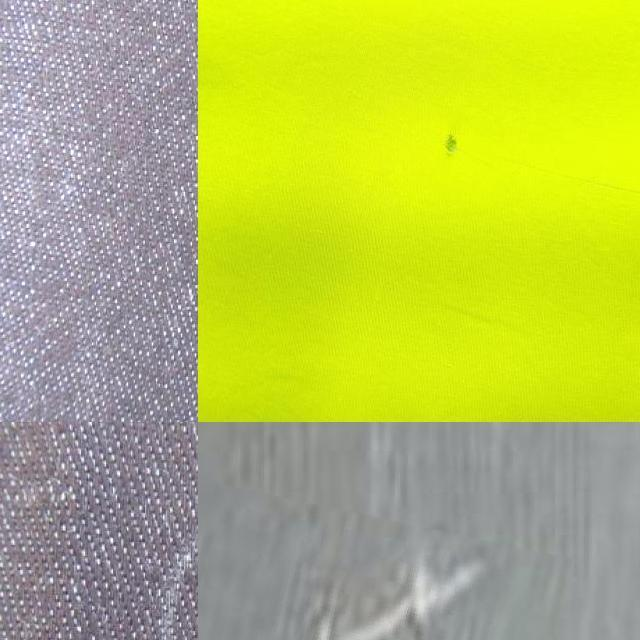Thread_other: (198, 500, 555, 640)
seam: (375, 104, 503, 202)
